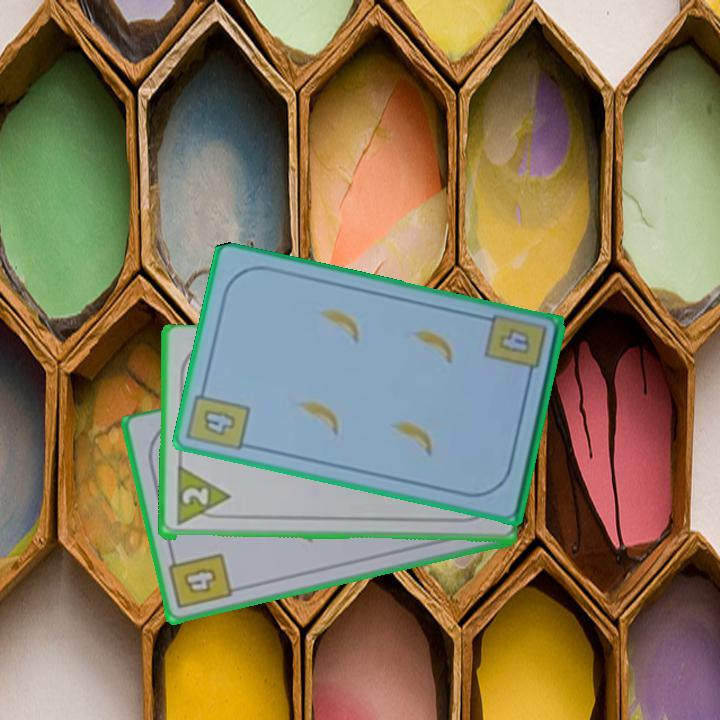2p: (172, 466, 232, 530)
4b: (186, 381, 253, 454), (165, 550, 235, 612), (494, 325, 533, 358)
